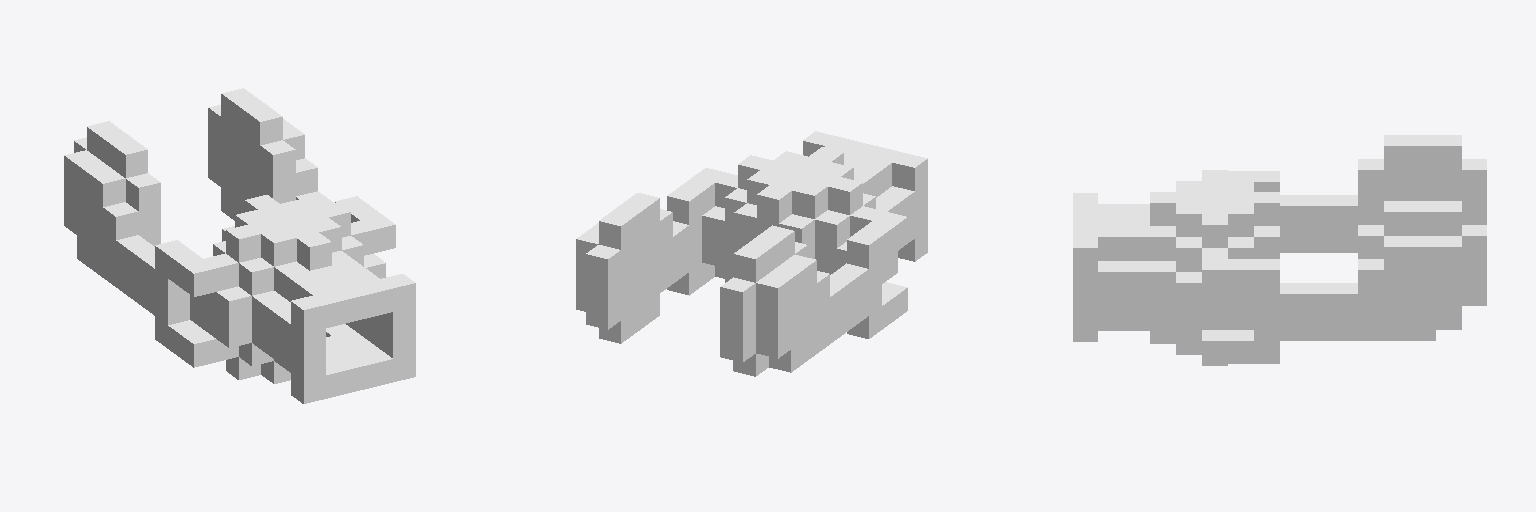
Rendered from WeaponCanon.obj.
3 views of the same model, side by side, from view 1: azimuth 30°, elevation 25°; view 2: azimuth 150°, elevation 25°; view 3: azimuth 270°, elevation 25° (orthographic).
Visible parts, largest first — view 1: object 1; view 2: object 1; view 3: object 1.
Part boxes in pixels (bbox=[...]): object 1: bbox=[64, 88, 415, 403]; object 1: bbox=[576, 131, 927, 376]; object 1: bbox=[1073, 135, 1486, 365].
Bounding box in the file's own units: 0.9 × 0.7 × 1.6.